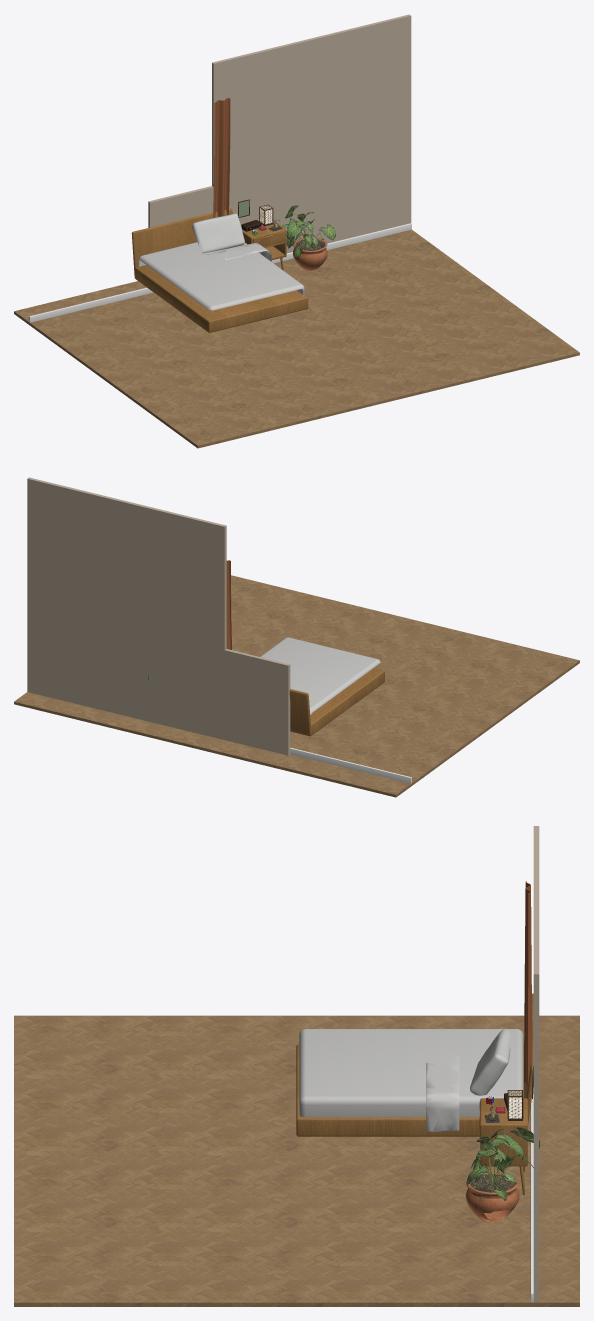
The model's file is donor.glb.
3 views of the same model, one above another, from view 1: azimuth 30°, elevation 25°; view 2: azimuth 150°, elevation 25°; view 3: azimuth 270°, elevation 25° (orthographic). The views are drawn at different scales.
Parts seen in each view (by area): view 1: Floor, WallRight, WallFar, Mattress, BedFrame, Curtain1, Headboard, potted_plant_02, WallBelow, Skirting, Pillow1, Nightstand (+1 smaller); view 2: Floor, WallRight, WallFar, WallBelow, Mattress, BedFrame, Skirting, Headboard, Curtain1; view 3: Floor, Mattress, potted_plant_02, BedFrame, WallFar, SheetFold, Nightstand, Pillow1, Curtain1, Skirting, WallRight.
Part boxes in pixels (<box>): Floor: <box>14,229,579,448</box>; WallRight: <box>212,31,340,253</box>; WallFar: <box>339,14,411,240</box>; Mattress: <box>138,242,304,310</box>; BedFrame: <box>134,265,308,332</box>; Curtain1: <box>213,98,230,218</box>; Headboard: <box>131,208,232,276</box>; potted_plant_02: <box>282,205,335,270</box>; WallBelow: <box>148,186,213,227</box>; Skirting: <box>29,223,411,322</box>; Pillow1: <box>192,213,244,253</box>; Nightstand: <box>242,220,286,270</box>; Floor: <box>14,575,579,797</box>; WallRight: <box>97,494,226,739</box>; WallFar: <box>27,477,98,708</box>; WallBelow: <box>224,649,290,755</box>; Mattress: <box>260,637,380,714</box>; BedFrame: <box>290,668,384,736</box>; Skirting: <box>290,747,411,783</box>; Headboard: <box>289,689,311,734</box>; Curtain1: <box>226,560,231,649</box>; Floor: <box>14,1015,579,1306</box>; Mattress: <box>299,1029,523,1117</box>; potted_plant_02: <box>465,1127,539,1222</box>; BedFrame: <box>296,1044,523,1136</box>; WallFar: <box>533,921,539,1302</box>; SheetFold: <box>426,1056,459,1132</box>; Nightstand: <box>479,1098,527,1195</box>; Pillow1: <box>470,1029,510,1095</box>; Curtain1: <box>524,881,532,1086</box>; Skirting: <box>530,1087,533,1302</box>; WallRight: <box>533,826,539,921</box>.
Size of the model in its own units: 60 by 32.4 by 50.
48 materials, 11 textured.
